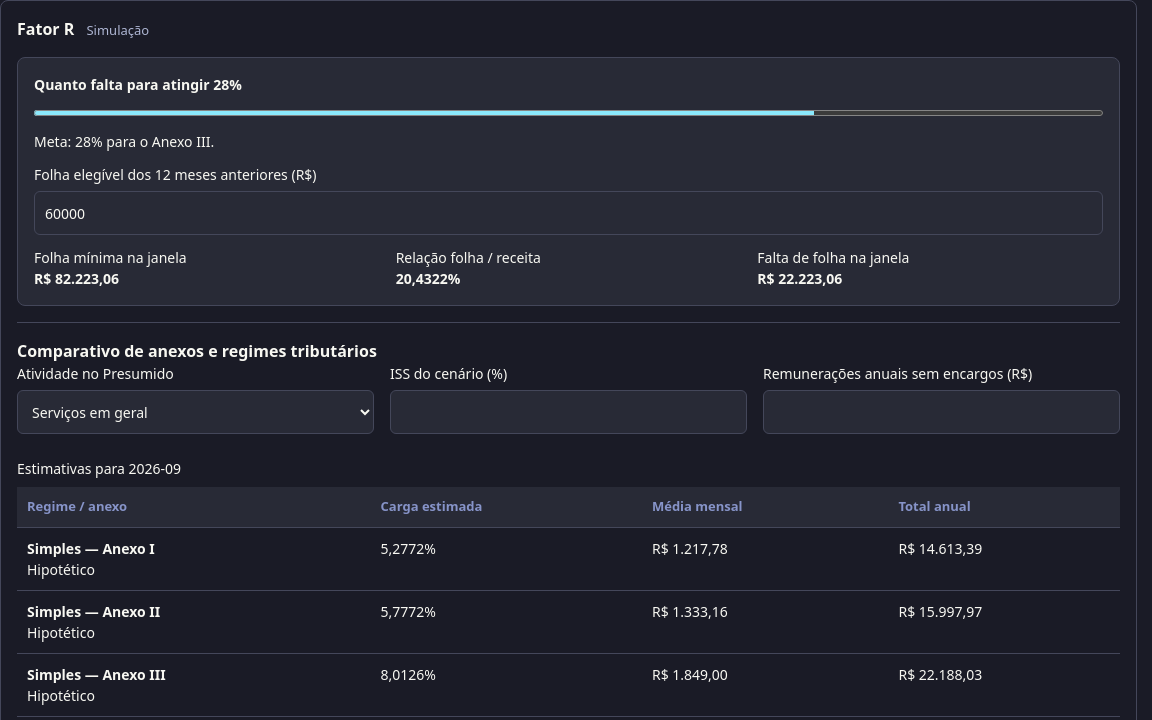
Test case: mostra meta, falta e compara os cinco anexos com o Presumido
Expected: the text "R$ 82.223,06" is shown, [34,269,119,288]
Expected: the text "R$ 22.223,06" is shown, [757,269,842,288]
Replace the text in the number field labelled "Folha elegível dos 12 meses anteriores (R$)" with "82223.06" at [568, 213], box [34,191,1103,235]
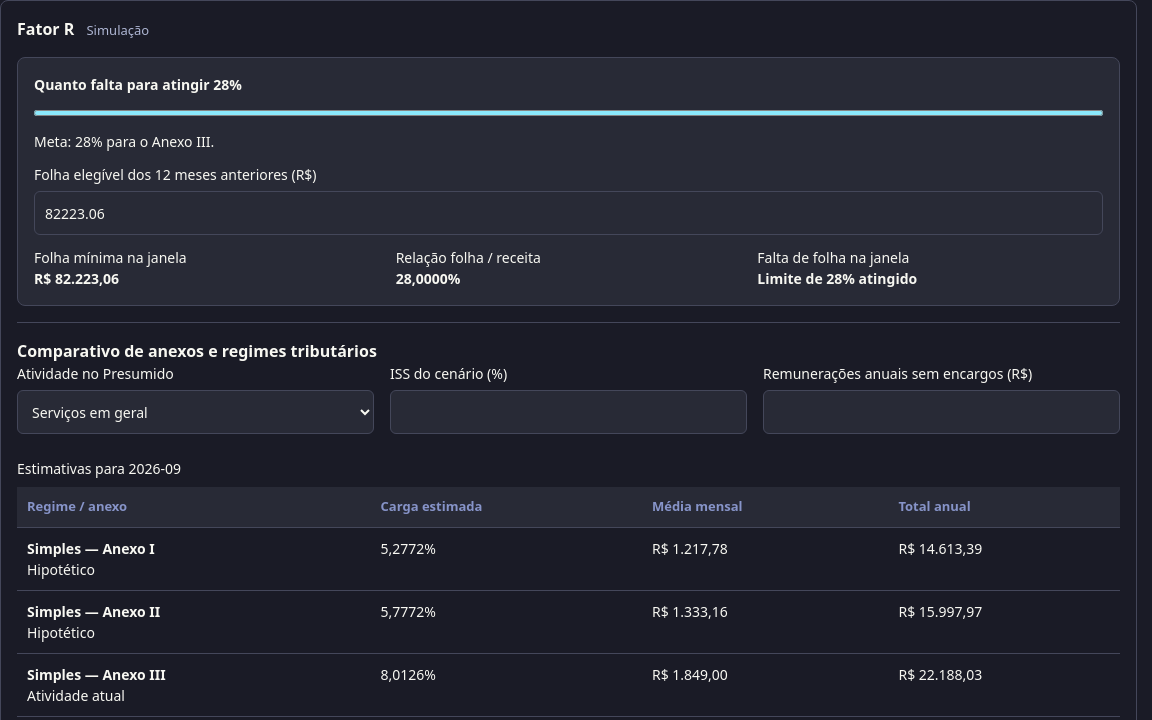
Expected: the text "Limite de 28% atingido" is shown, [757,269,917,288]
